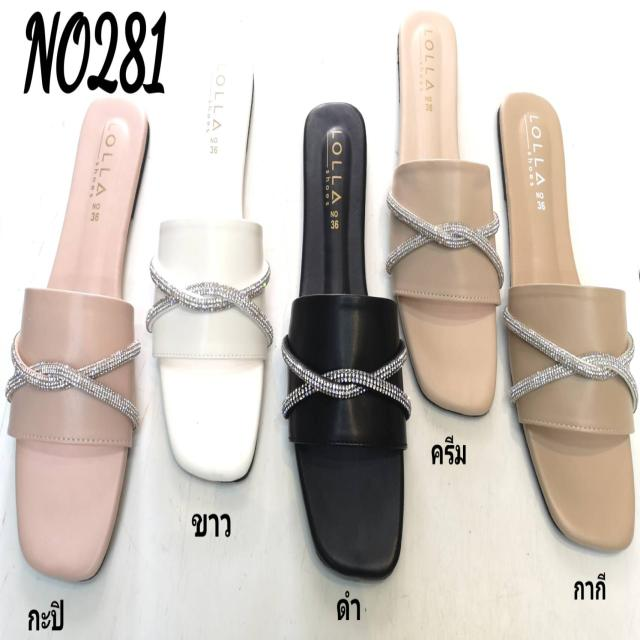black: (289, 103, 404, 578)
cream: (392, 9, 499, 416)
kakee: (499, 84, 634, 544)
kapi: (16, 100, 148, 578)
white: (154, 55, 265, 484)
